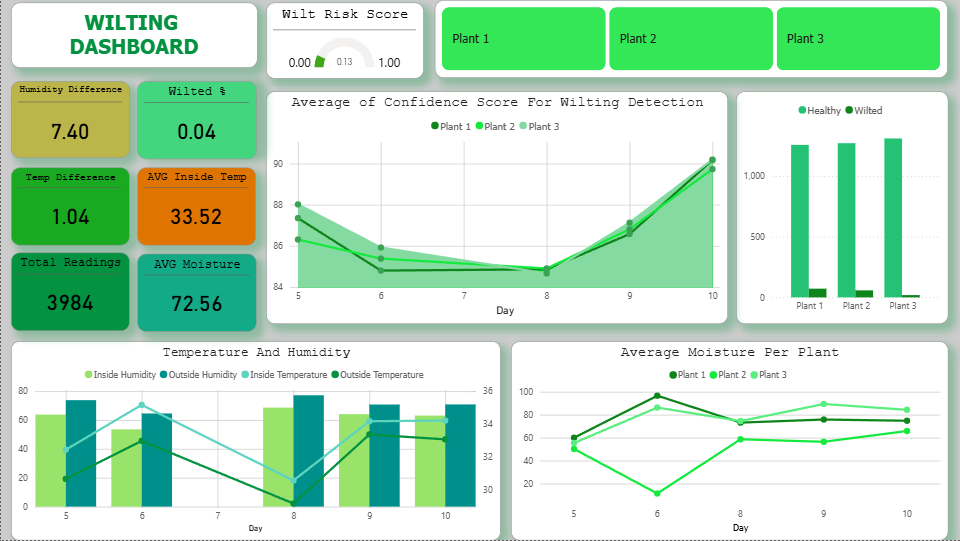

Layout of this report page (visuals, bound fields, positions):
{"tool":"powerbi","page":{"name":"Dashboard","canvas":[1280,720],"ordinal":0},"visuals":[{"type":"lineClusteredColumnComboChart","title":"Temperature And Humidity","fields":{"Category":["Query1.timestamp.Variation.Date Hierarchy.Day"],"Y":["Avg(Query1.inside_humidity)","Avg(Query1.outside_humidity)"],"Y2":["Avg(Query1.inside_temperature)","Avg(Query1.outside_temperature)"]},"box":[12.9,454.3,652.9,265.7],"z":0},{"type":"clusteredColumnChart","fields":{"Category":["Query1.plant_name"],"Series":["Query1.status"],"Y":["CountNonNull(Query1.status)"]},"box":[980,121.4,282.9,310],"z":1000},{"type":"lineChart","title":"Average Moisture Per Plant","fields":{"Y":["Avg(Query1.moisture_sensor)"],"Category":["Query1.timestamp.Variation.Date Hierarchy.Day"],"Series":["Query1.plant_name"]},"box":[680,454.3,582.9,265.7],"z":2000},{"type":"areaChart","title":"Average of Confidence Score For Wilting Detection","fields":{"Category":["Query1.timestamp.Variation.Date Hierarchy.Day"],"Y":["Avg(Query1.confidence_score_pct)"],"Series":["Query1.plant_name"]},"box":[352.9,121.4,615.7,310],"z":3000},{"type":"card","title":"Temp Difference","fields":{"Values":["Avg(Query1.temperature_difference)"]},"box":[13,224,158,104],"z":4000},{"type":"card","title":"Humidity Difference","fields":{"Values":["Avg(Query1.humidity_difference)"]},"box":[13,109,158,102],"z":5000},{"type":"card","title":"Total Readings","fields":{"Values":["CountNonNull(Query1.status)"]},"box":[13,337,158,105],"z":6000},{"type":"actionButton","box":[12.9,0,100,40],"z":7000},{"type":"card","title":"AVG Moisture","fields":{"Values":["Avg(Query1.moisture_sensor)"]},"box":[181,338,159,104],"z":8000},{"type":"card","title":"AVG Inside Temp","fields":{"Values":["Avg(Query1.inside_temperature)"]},"box":[182,224,158,104],"z":9000},{"type":"card","title":"Wilted %","fields":{"Values":["Query1.Wilted %"]},"box":[182.2,108.9,158.9,103.9],"z":10000},{"type":"advancedSlicerVisual","title":"Plants","fields":{"Values":["Query1.plant_name"]},"box":[578.6,0,684.3,104.3],"z":11000},{"type":"gauge","fields":{"Y":["Query1.Risk Score"]},"box":[352.5,2.5,210,101.7],"z":12000},{"type":"textbox","box":[12.9,2.9,328.6,87.1],"z":13000}]}

Visuals, with their boxes in screenshot pixels (x1, y1, x2, y2), scaled from the page's 1280x720 canvas onto the 960x541 screenshot:
"Temperature And Humidity" lineClusteredColumnComboChart: Rect(10, 341, 499, 540)
clusteredColumnChart - Query1.plant_name x Query1.status: Rect(735, 91, 947, 324)
"Average Moisture Per Plant" lineChart: Rect(510, 341, 947, 540)
"Average of Confidence Score For Wilting Detection" areaChart: Rect(265, 91, 726, 324)
"Temp Difference" card: Rect(10, 168, 128, 246)
"Humidity Difference" card: Rect(10, 82, 128, 159)
"Total Readings" card: Rect(10, 253, 128, 332)
actionButton: Rect(10, 0, 85, 30)
"AVG Moisture" card: Rect(136, 254, 255, 332)
"AVG Inside Temp" card: Rect(136, 168, 255, 246)
"Wilted %" card: Rect(137, 82, 256, 160)
"Plants" advancedSlicerVisual: Rect(434, 0, 947, 78)
gauge - Query1.Risk Score: Rect(264, 2, 422, 78)
textbox: Rect(10, 2, 256, 68)
